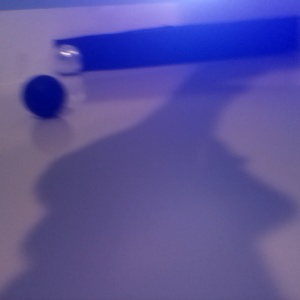alive_ball: (48, 43, 82, 74)
dead_ball: (23, 75, 65, 118)
